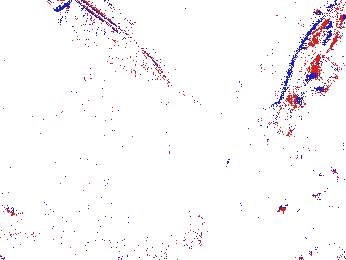glassfish: (48, 1, 196, 114)
siberian prawn: (256, 1, 346, 139)
